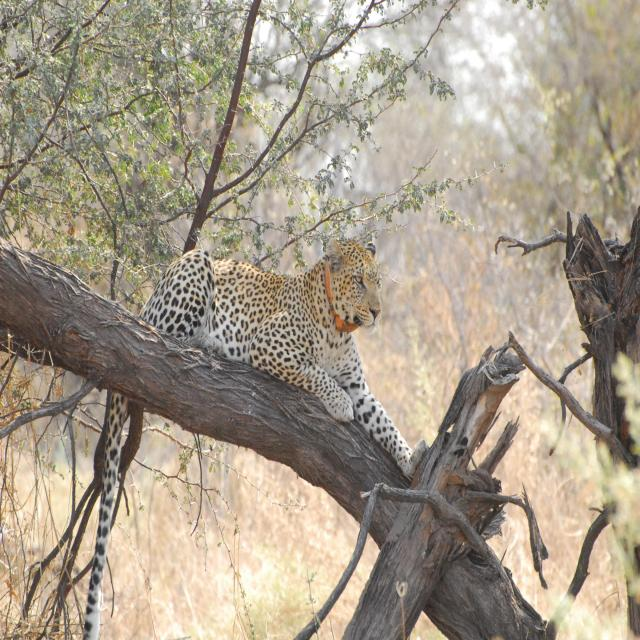Leopard: (73, 238, 448, 621)
